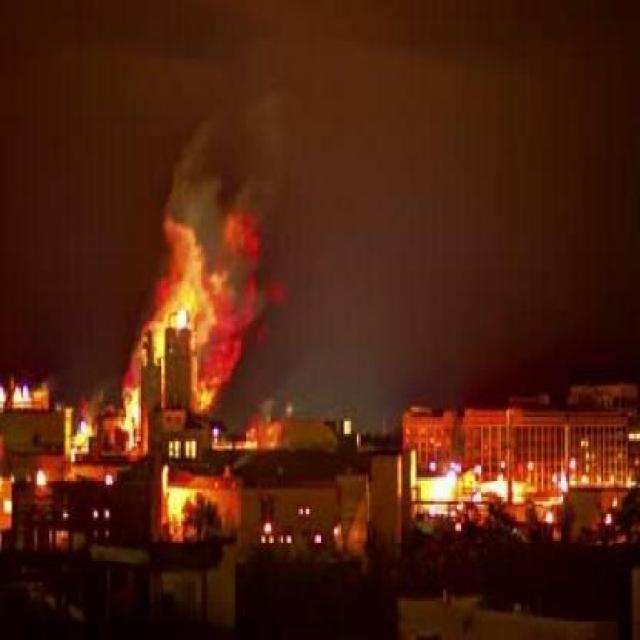Fire: (53, 196, 306, 440)
